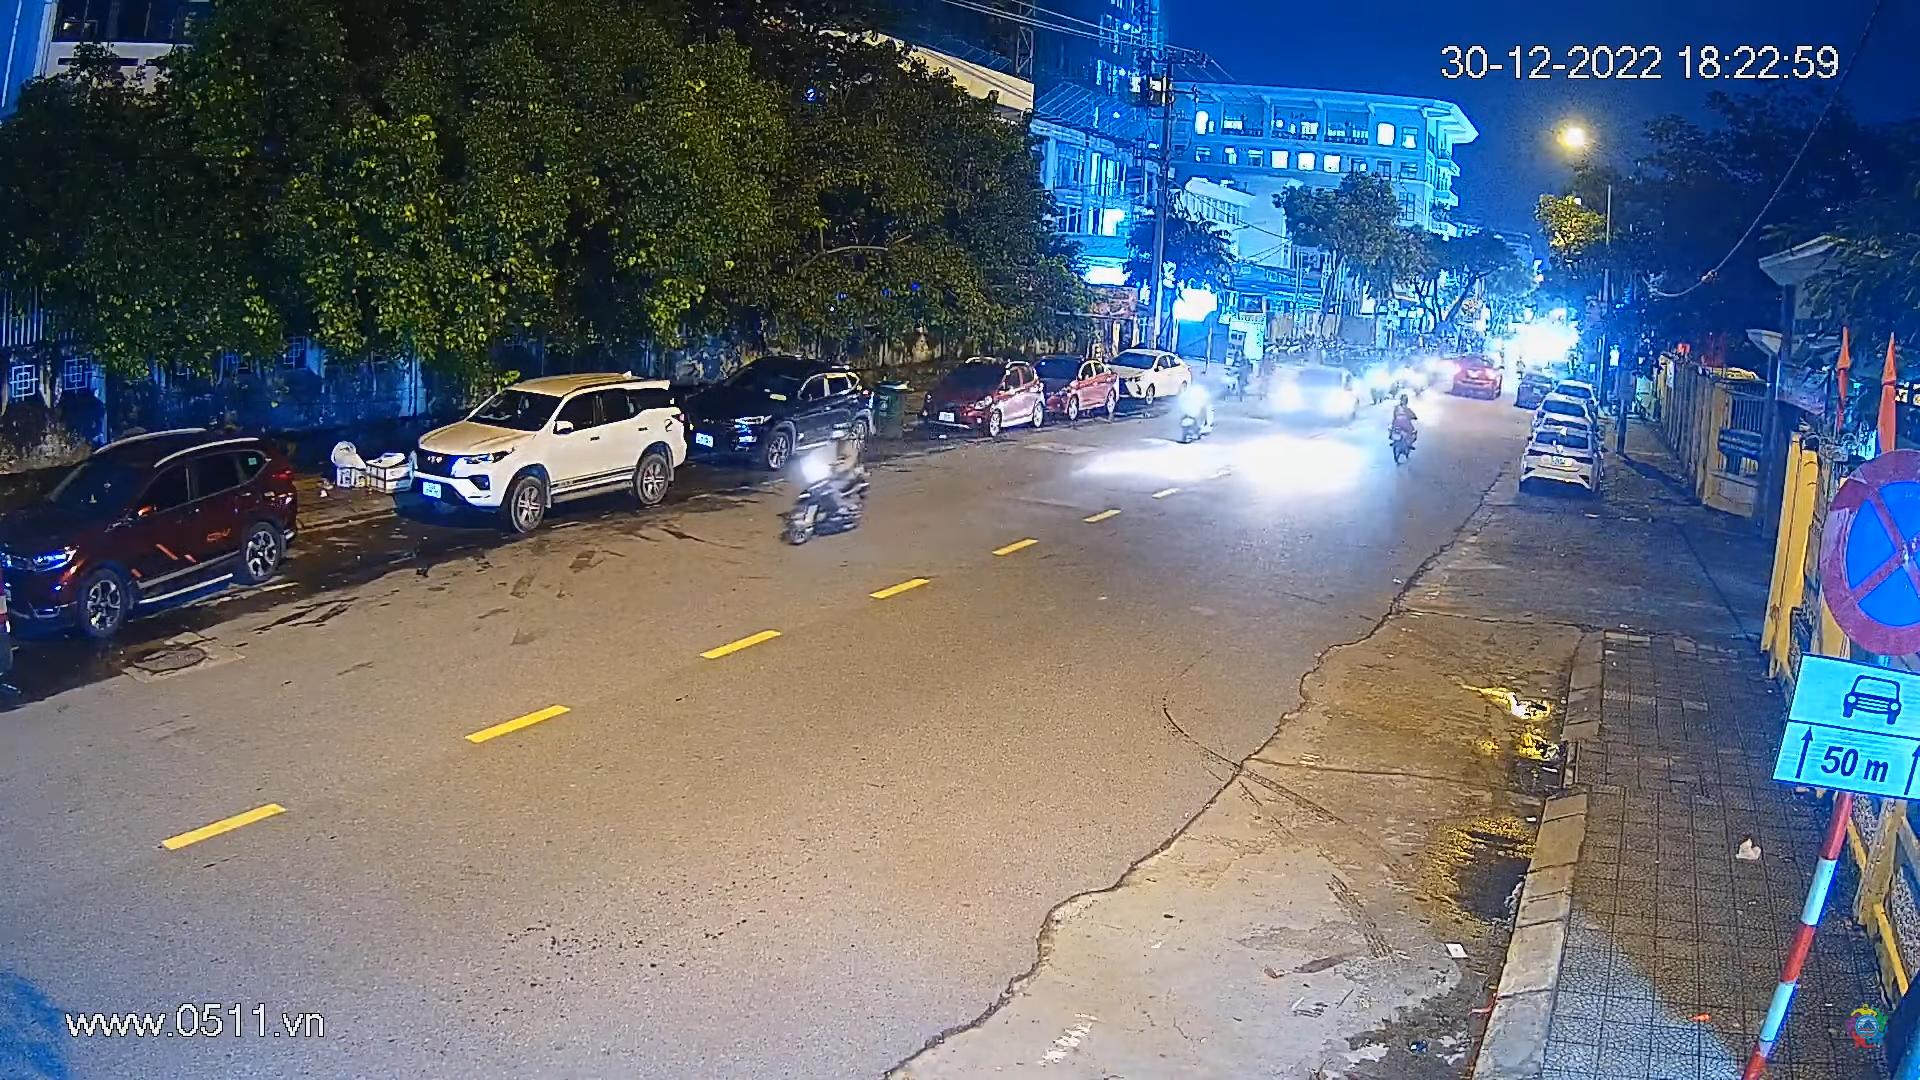car: (0, 417, 306, 650), (392, 367, 695, 542), (687, 360, 876, 484), (910, 355, 1052, 444), (1097, 340, 1201, 406), (1035, 351, 1126, 419), (1516, 423, 1600, 495), (1282, 363, 1357, 425), (1447, 351, 1509, 405), (1513, 372, 1552, 409), (1536, 394, 1592, 419)
motorcycle: (781, 436, 876, 545), (1174, 378, 1220, 448), (1386, 392, 1419, 464), (1361, 361, 1390, 411)
